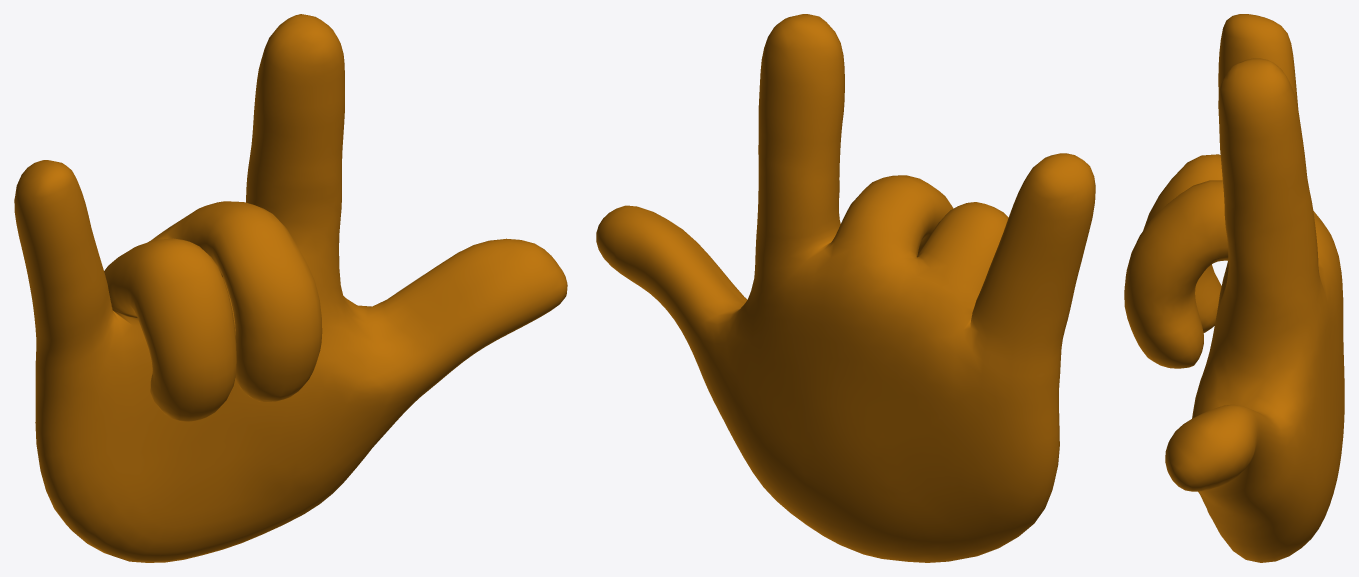
File: rock.FBX
The picture shows the model from 3 angles, left to right: view 1: azimuth 30°, elevation 25°; view 2: azimuth 150°, elevation 25°; view 3: azimuth 270°, elevation 25°; orthographic projection. The views are drawn at different scales.
Visible parts, largest first — view 1: Group54700; view 2: Group54700; view 3: Group54700.
Boxes of the visible parts, x1,y1,x2,y2 form: Group54700: (14,14,567,562); Group54700: (596,14,1095,562); Group54700: (1124,14,1344,562).
Size of the model in its own units: 16.97 by 16.08 by 6.14.
